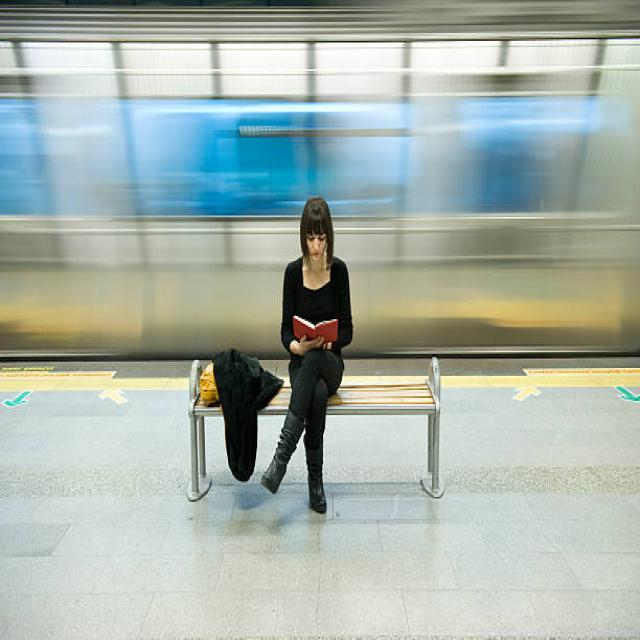sit: (250, 188, 360, 522)
